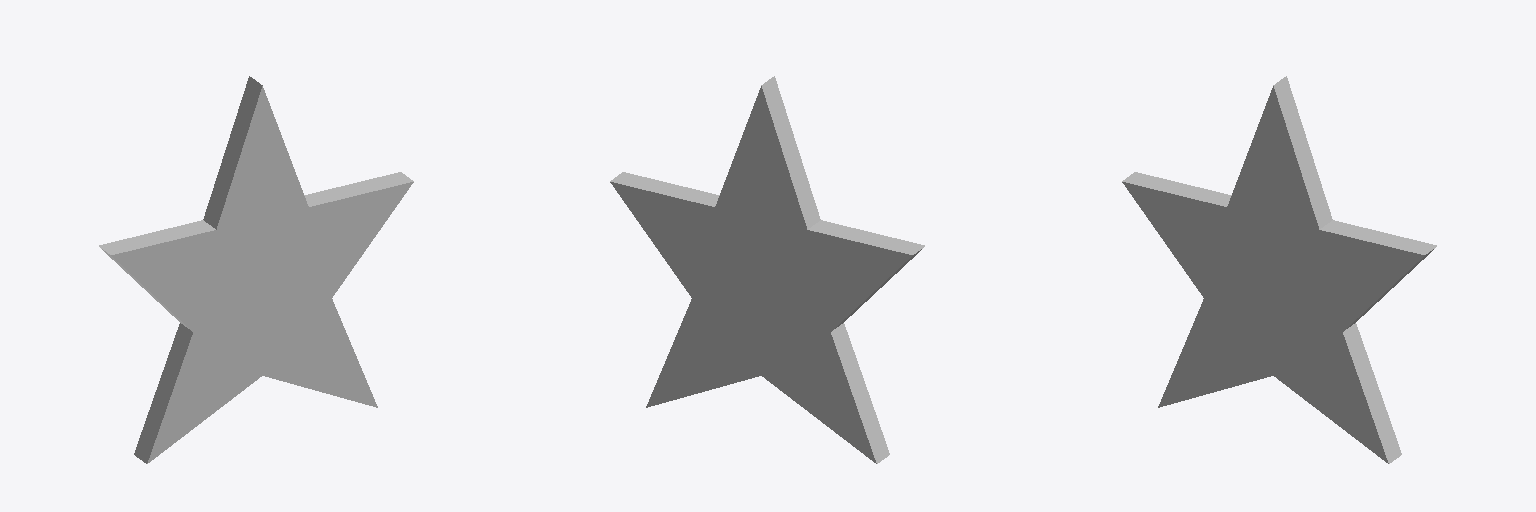
Rendered from star.obj.
The picture shows the model from 3 angles: view 1: azimuth 30°, elevation 25°; view 2: azimuth 150°, elevation 25°; view 3: azimuth 330°, elevation 25°; orthographic projection.
Parts seen in each view (by area): view 1: Stern_v1; view 2: Stern_v1; view 3: Stern_v1.
Boxes of the visible parts, <box> form: Stern_v1: <box>99,76,413,463</box>; Stern_v1: <box>610,76,924,463</box>; Stern_v1: <box>1122,76,1436,463</box>.
Size of the model in its own units: 26.22 by 29 by 2.